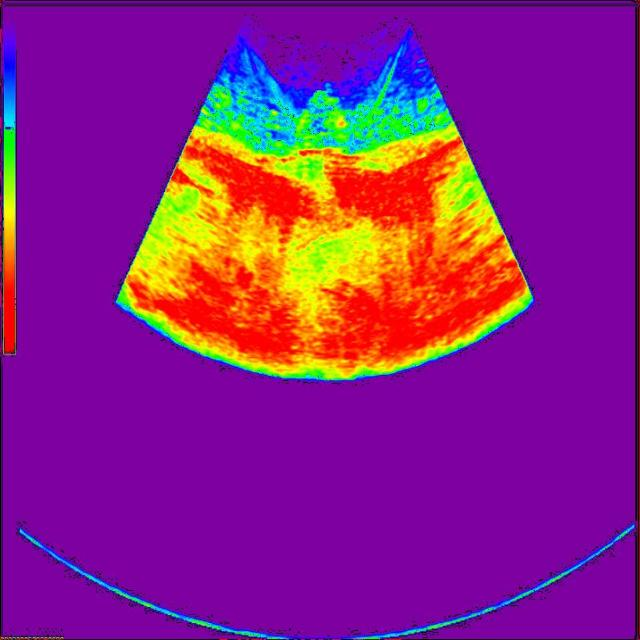lamb liver post: (289, 91, 353, 156)
